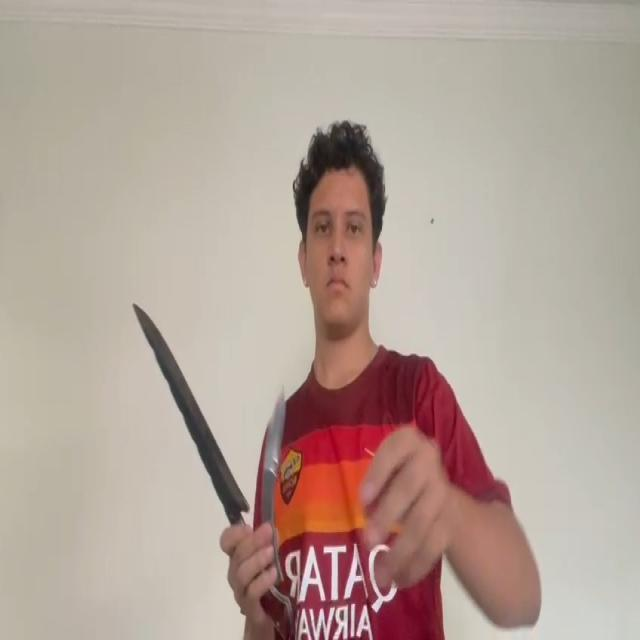knife: (131, 301, 246, 518), (264, 383, 288, 478)
